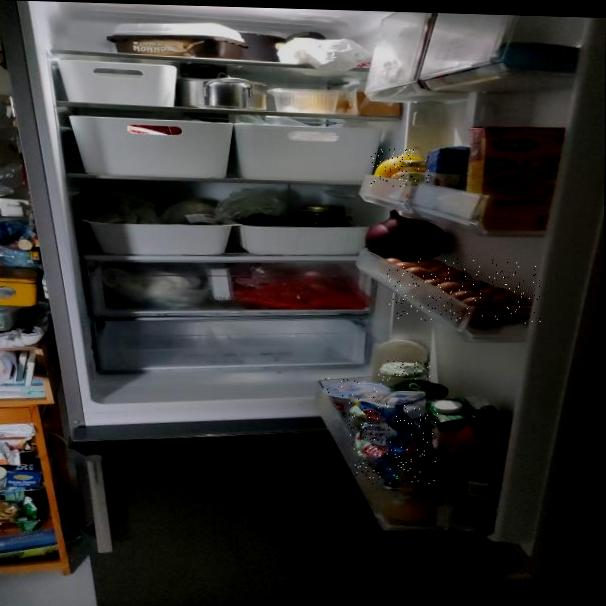carrots: (241, 275, 366, 309)
cheese: (349, 401, 441, 486)
eggs: (386, 255, 541, 324)
lemon: (371, 148, 429, 188)
olive: (383, 361, 431, 382)
yoghurt: (323, 371, 387, 402)
